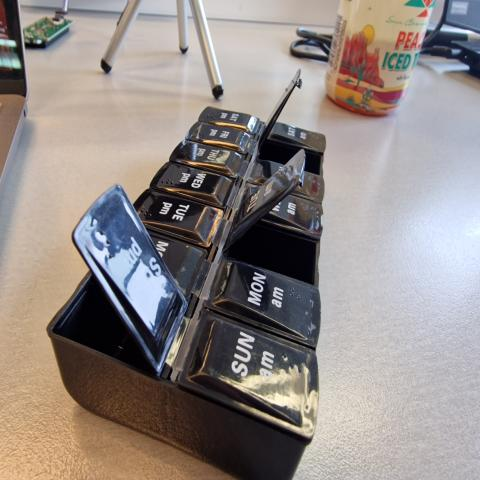Open: (50, 238, 157, 376), (255, 70, 323, 176), (229, 222, 319, 282)
